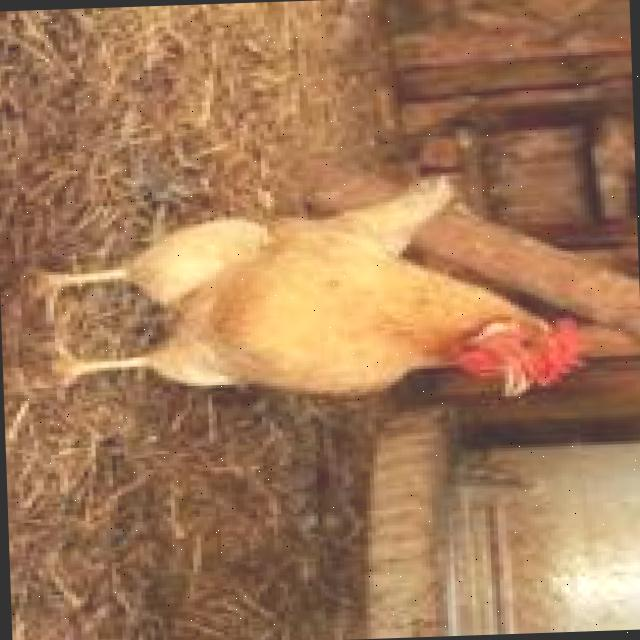Healthy: (20, 155, 598, 419)
